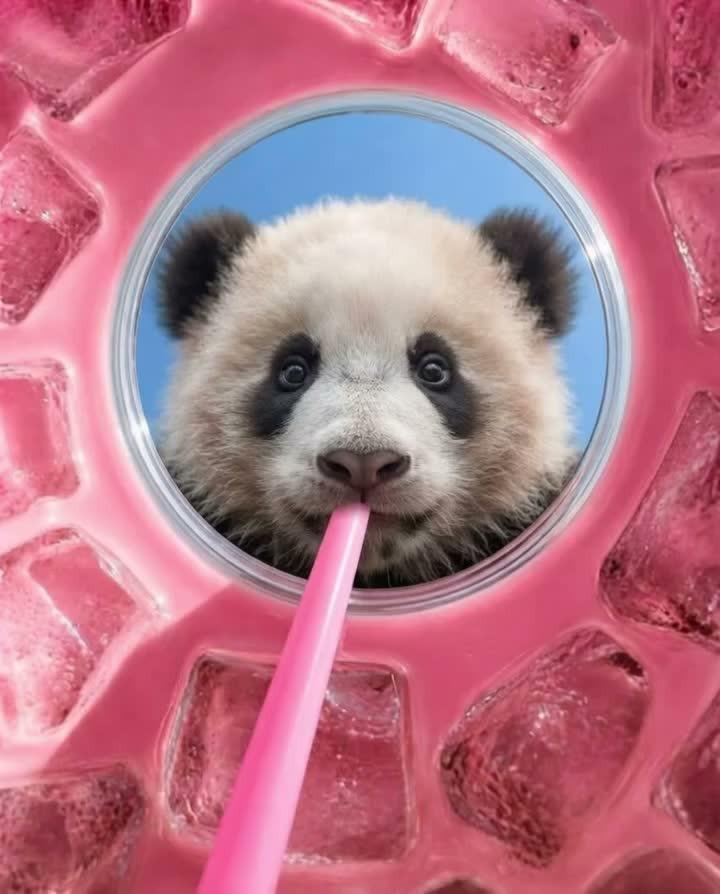non-dog: (151, 190, 586, 590)
